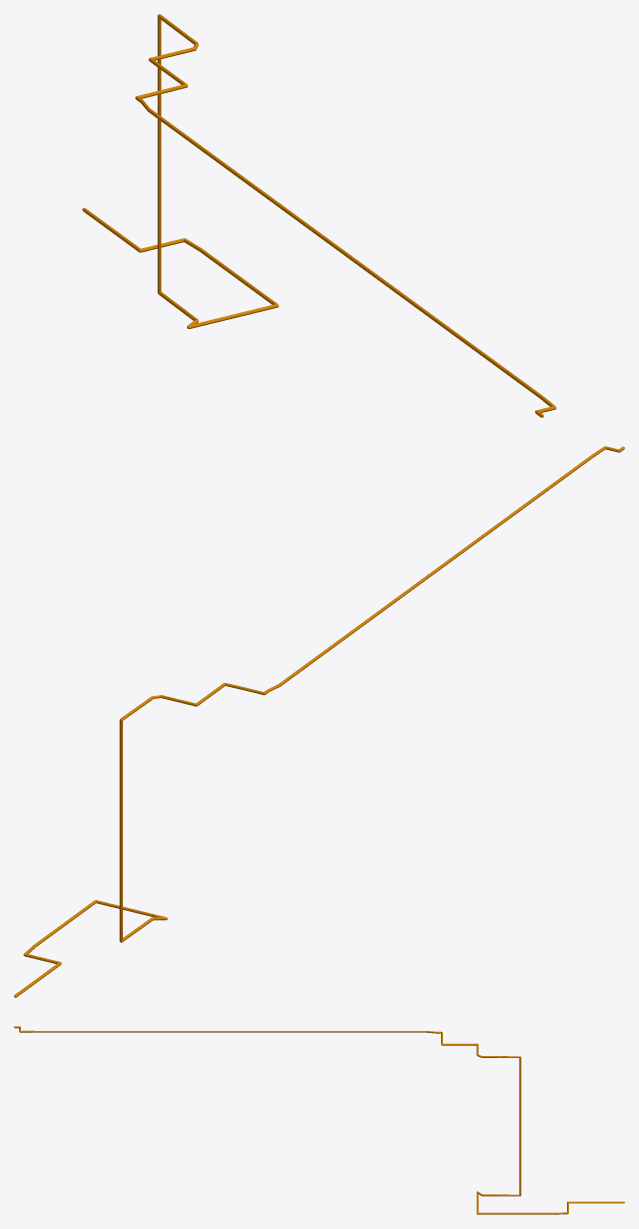
3 views of the same model, one above another, from view 1: azimuth 30°, elevation 25°; view 2: azimuth 150°, elevation 25°; view 3: azimuth 270°, elevation 25° (orthographic). The views are drawn at different scales.
Bounding box in the file's own units: 1140 × 1520 × 6005.
